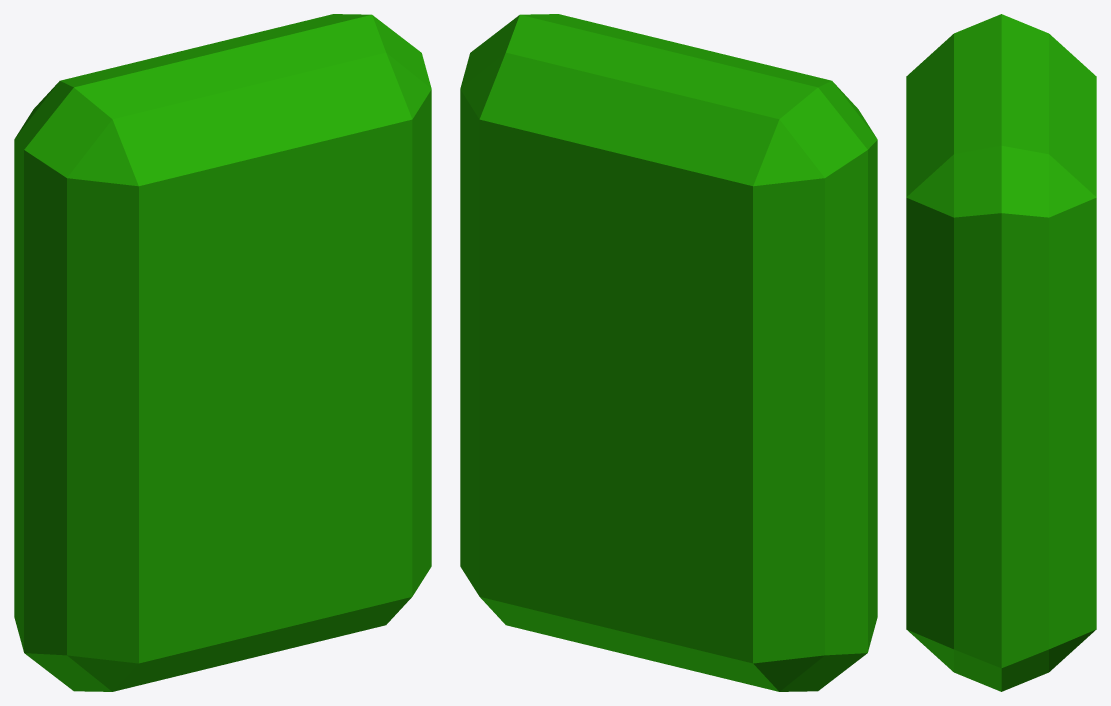
Rendered from Emerald.fbx.
The picture shows the model from 3 angles, left to right: view 1: azimuth 30°, elevation 25°; view 2: azimuth 150°, elevation 25°; view 3: azimuth 270°, elevation 25°; orthographic projection. The views are drawn at different scales.
Visible parts, largest first — view 1: Emerald; view 2: Emerald; view 3: Emerald.
Boxes of the visible parts, <box> form: Emerald: <box>14,14,431,691</box>; Emerald: <box>460,14,877,691</box>; Emerald: <box>906,14,1096,691</box>.
Bounding box in the file's own units: 1.09 × 1.58 × 0.5.
